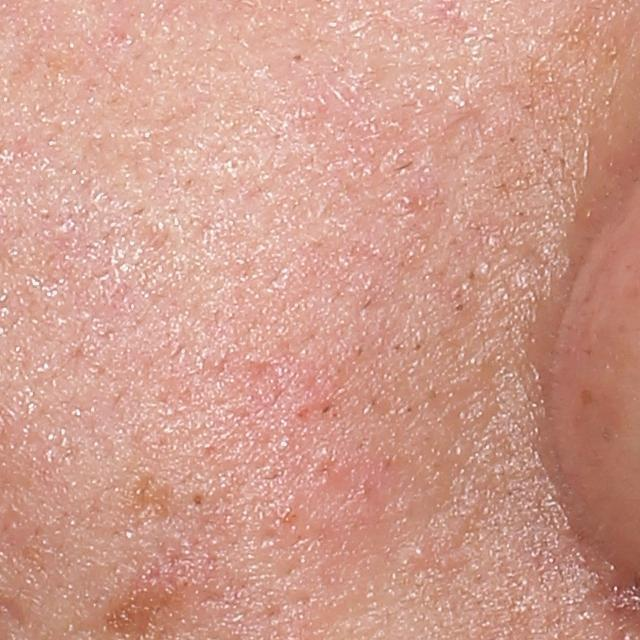comedo: (185, 490, 211, 513), (286, 48, 312, 67), (407, 541, 427, 564)
